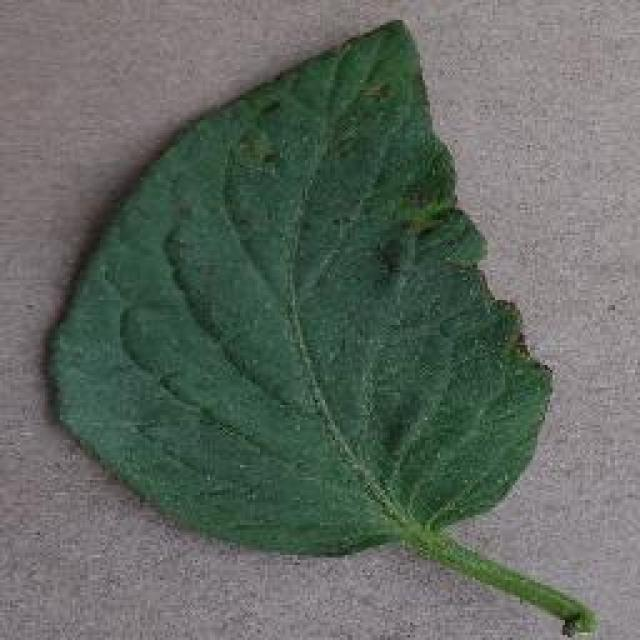Tomato___Bacterial_spot: (49, 17, 600, 633)
